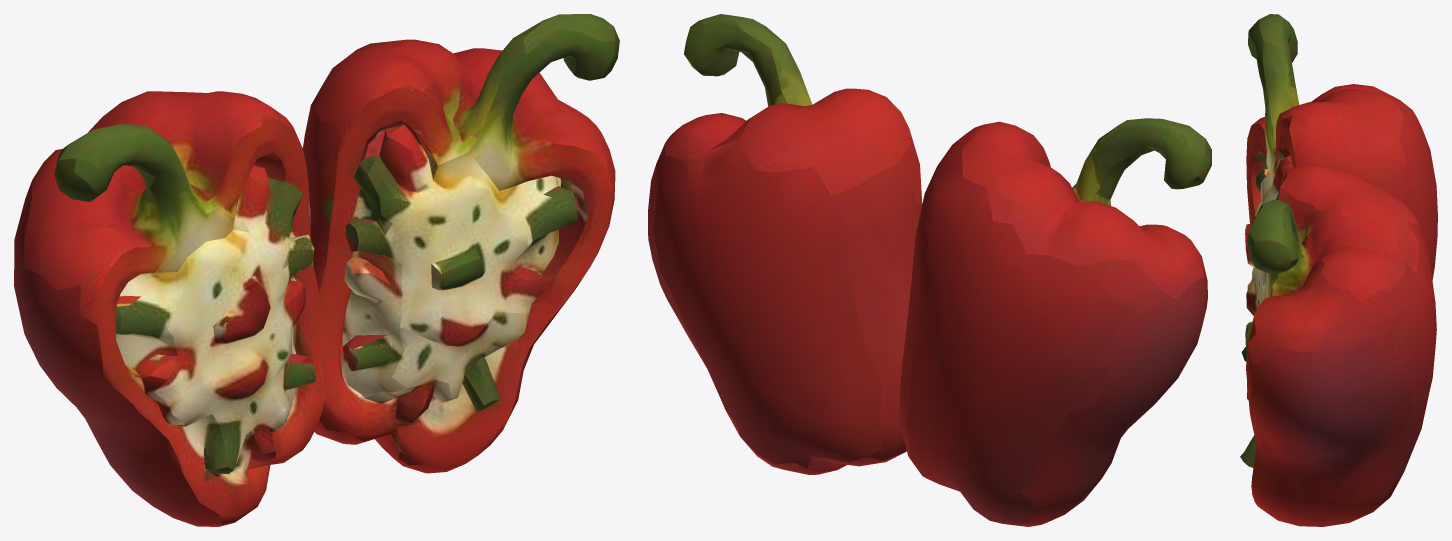
Rendered from stuffed_peppers.glb.
The picture shows the model from 3 angles, left to right: view 1: azimuth 30°, elevation 25°; view 2: azimuth 150°, elevation 25°; view 3: azimuth 270°, elevation 25°; orthographic projection. The views are drawn at different scales.
Parts seen in each view (by area): view 1: stuffed_peppers_z; view 2: stuffed_peppers_z; view 3: stuffed_peppers_z.
Boxes of the visible parts, left/top/right/bottom form: stuffed_peppers_z: left=14, top=14, right=619, bottom=526; stuffed_peppers_z: left=648, top=14, right=1211, bottom=526; stuffed_peppers_z: left=1240, top=14, right=1437, bottom=526.
Size of the model in its own units: 1 by 0.7291 by 0.3618.
Materials: 1 (1 with a texture image).
